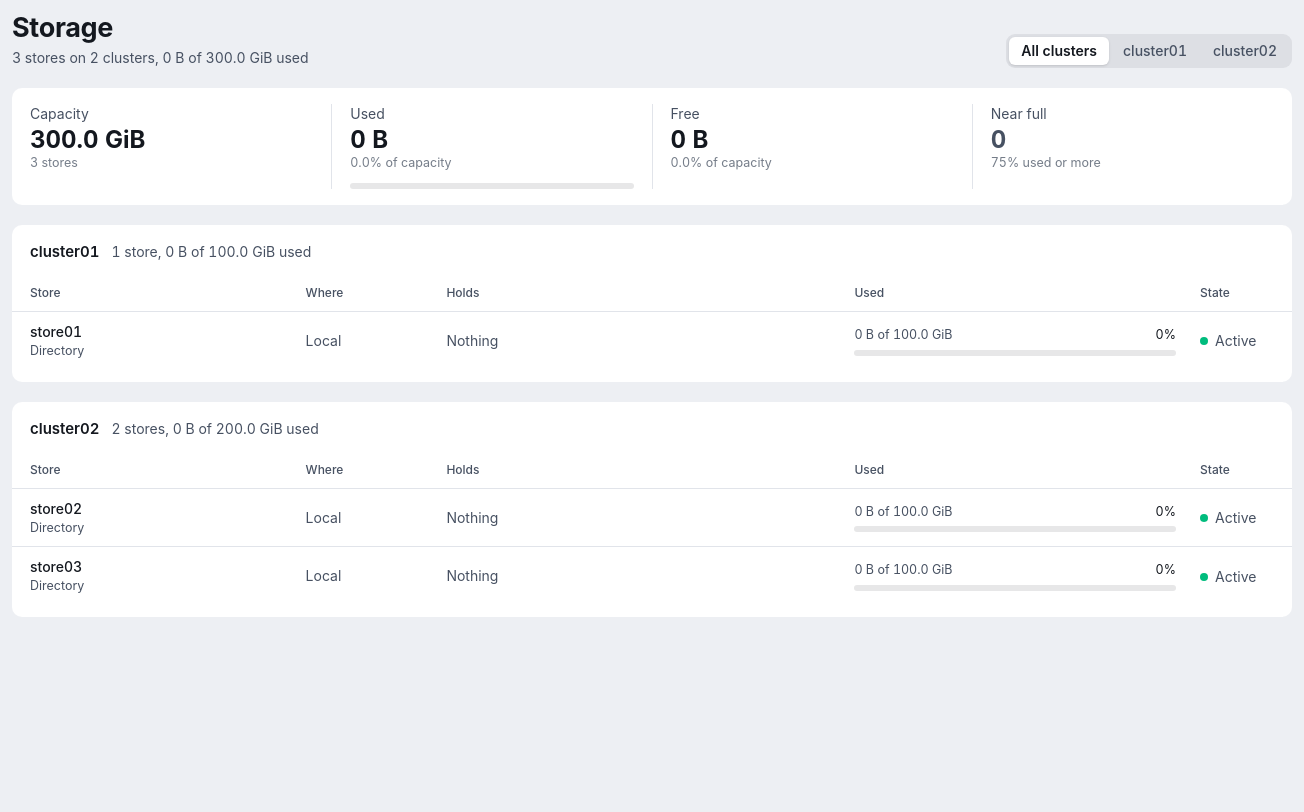
Test: StoragePage › lists and sums every cluster's stores, then one cluster's once it is picked
Expected: the text "3 stores on 2 clusters, 0 B of 300.0 GiB used" is shown, 12,48 -> 309,68
What coordinates should you click on to do the following:
click the button "cluster02"
I would click on:
 (1245, 51)
Its box is 1201,37 -> 1289,65.
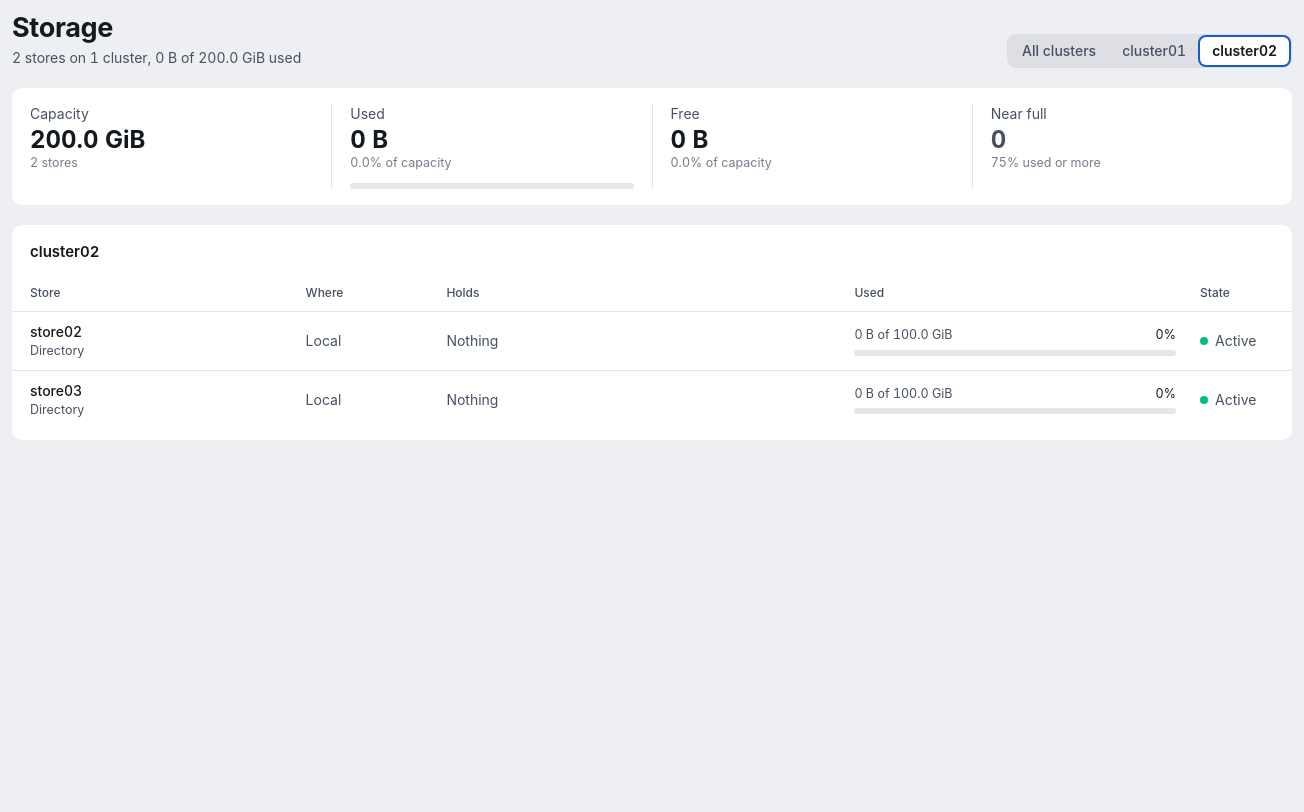
Now the text "2 stores on 1 cluster, 0 B of 200.0 GiB used" is shown, box 12,48 -> 301,68
Now the link "store01" is gone
